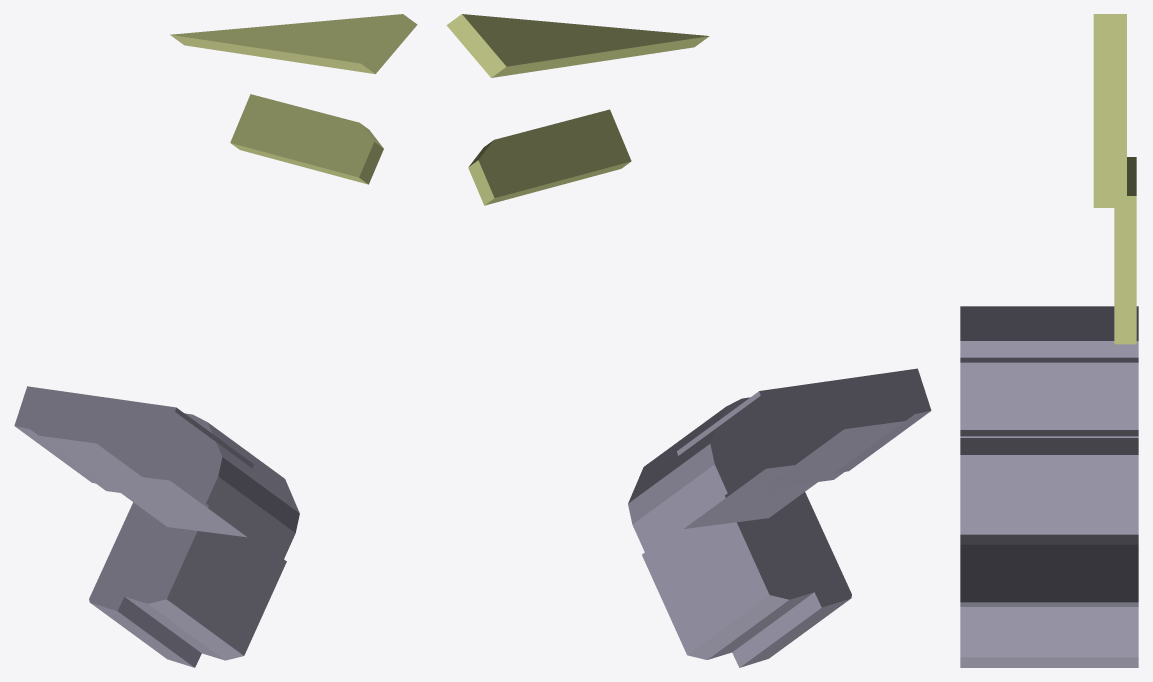
The picture shows the model from 3 angles, left to right: view 1: azimuth 30°, elevation 25°; view 2: azimuth 150°, elevation 25°; view 3: azimuth 270°, elevation 25°; orthographic projection. The views are drawn at different scales.
Parts seen in each view (by area): view 1: 0_0_1_3_1_2_2; view 2: 0_0_1_3_1_2_2; view 3: 0_0_1_3_1_2_2.
Boxes of the visible parts, x1,y1,x2,y2 form: 0_0_1_3_1_2_2: [14, 14, 417, 667]; 0_0_1_3_1_2_2: [446, 14, 931, 667]; 0_0_1_3_1_2_2: [960, 14, 1138, 667].
Bounding box in the file's own units: 137 × 194 × 48.
